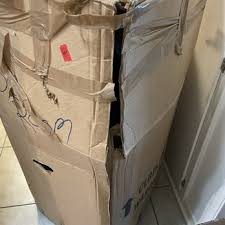damaged package: (83, 0, 165, 217), (0, 25, 69, 147)
